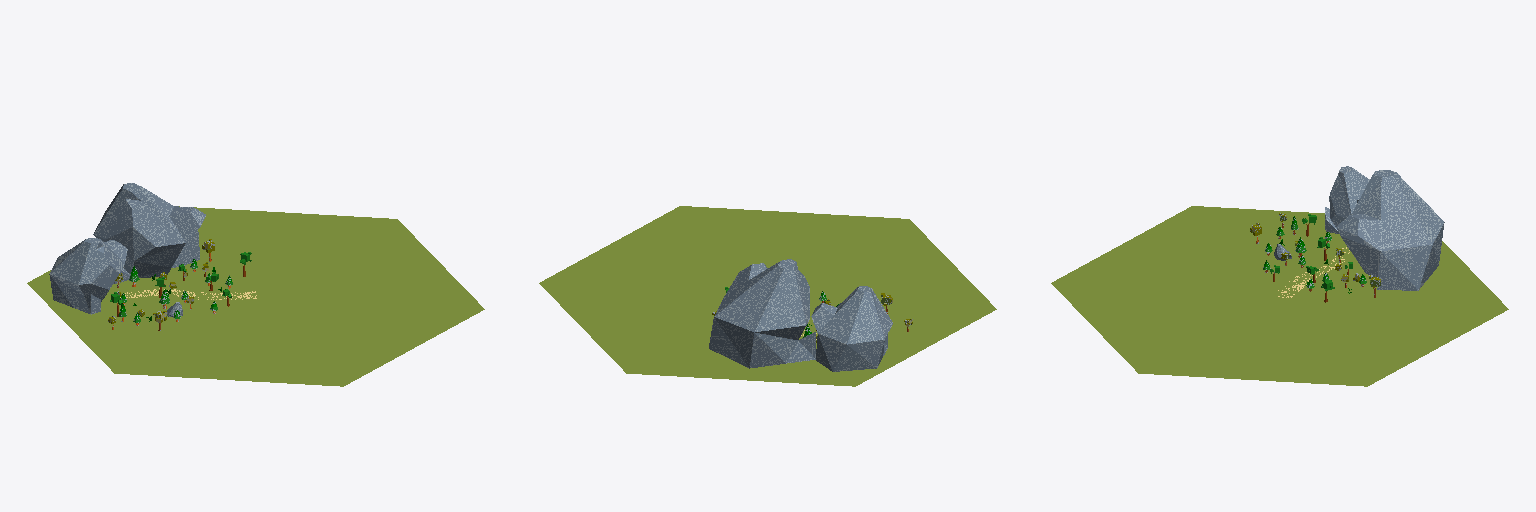
Rendered from les.obj.
The picture shows the model from 3 angles: view 1: azimuth 30°, elevation 25°; view 2: azimuth 150°, elevation 25°; view 3: azimuth 270°, elevation 25°; orthographic projection.
Visible parts, largest first — view 1: Mesh397 podlaha1 les1 Model, Mesh404 skala3 skala_1_3 les1 Model, Mesh393 skala2 skala_1_2 les1 Model; view 2: Mesh397 podlaha1 les1 Model, Mesh404 skala3 skala_1_3 les1 Model, Mesh393 skala2 skala_1_2 les1 Model; view 3: Mesh397 podlaha1 les1 Model, Mesh404 skala3 skala_1_3 les1 Model, Mesh393 skala2 skala_1_2 les1 Model.
Part boxes in pixels (x1,y1,x2,y2): Mesh397 podlaha1 les1 Model: (27,206,484,386); Mesh404 skala3 skala_1_3 les1 Model: (93,183,205,283); Mesh393 skala2 skala_1_2 les1 Model: (49,238,127,314); Mesh397 podlaha1 les1 Model: (539,206,996,386); Mesh404 skala3 skala_1_3 les1 Model: (709,259,815,368); Mesh393 skala2 skala_1_2 les1 Model: (811,286,892,371); Mesh397 podlaha1 les1 Model: (1051,206,1508,386); Mesh404 skala3 skala_1_3 les1 Model: (1336,170,1444,290); Mesh393 skala2 skala_1_2 les1 Model: (1325,166,1369,233).
Bounding box in the file's own units: 81.36 × 20.03 × 87.12.